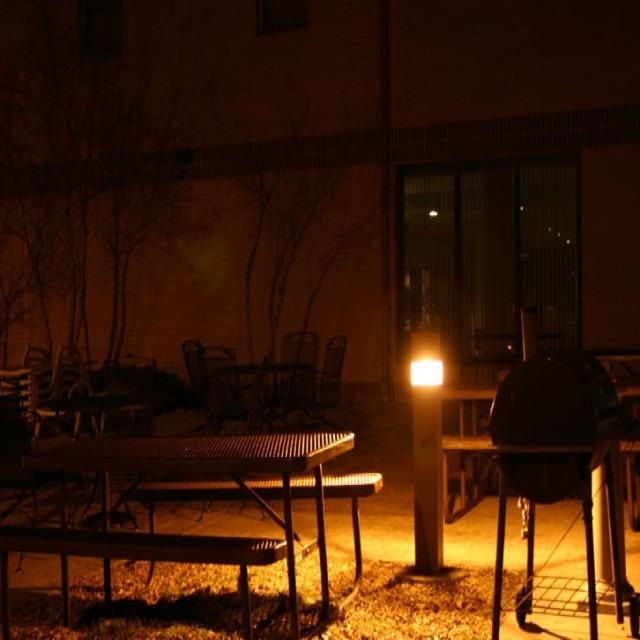Table: (6, 426, 382, 640), (438, 352, 640, 520), (220, 341, 317, 412)
chair: (475, 325, 630, 635), (45, 330, 102, 442), (277, 318, 327, 434), (179, 325, 224, 432), (0, 341, 46, 437), (319, 329, 354, 435)
